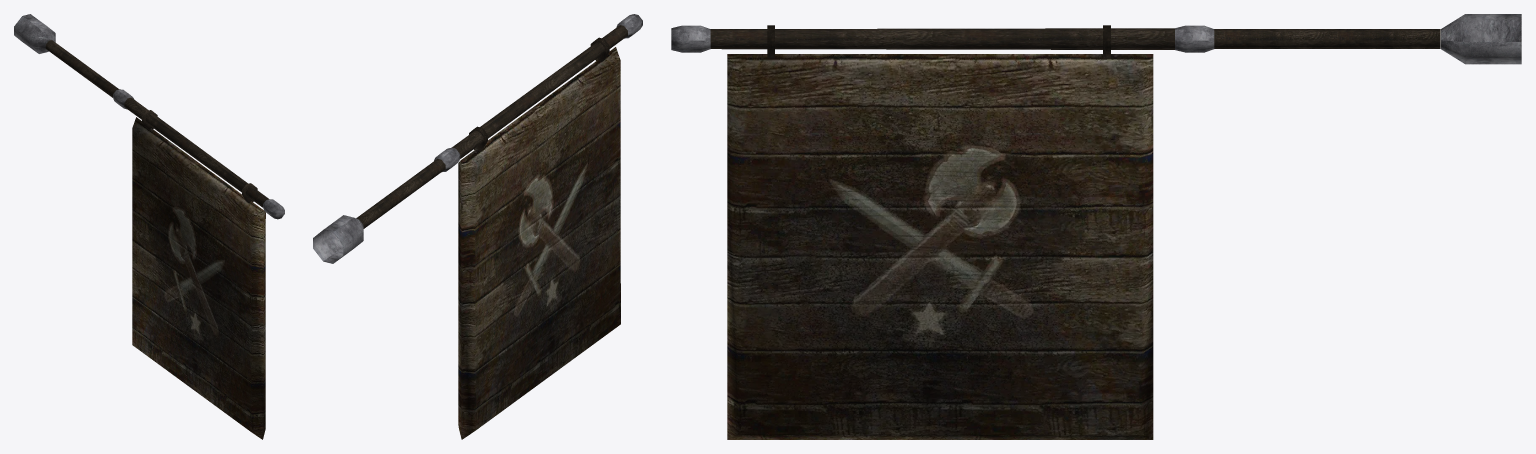
File: GS_HOUSE_SIGN_04_KWIATEK.glb
The picture shows the model from 3 angles, left to right: view 1: azimuth 30°, elevation 25°; view 2: azimuth 150°, elevation 25°; view 3: azimuth 270°, elevation 25°; orthographic projection. The views are drawn at different scales.
Visible parts, largest first — view 1: Mesh; view 2: Mesh; view 3: Mesh.
Part boxes in pixels (<box>): Mesh: <box>14,14,284,439</box>; Mesh: <box>313,14,642,439</box>; Mesh: <box>671,14,1521,439</box>.
Size of the model in its own units: 0.0724 by 0.7028 by 1.28.
3 materials, 3 textured.
